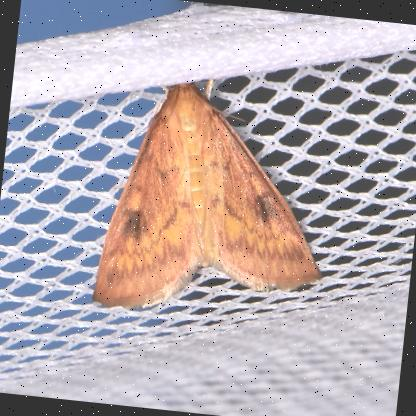Asian Corn Borer Moth: (89, 62, 342, 331)
